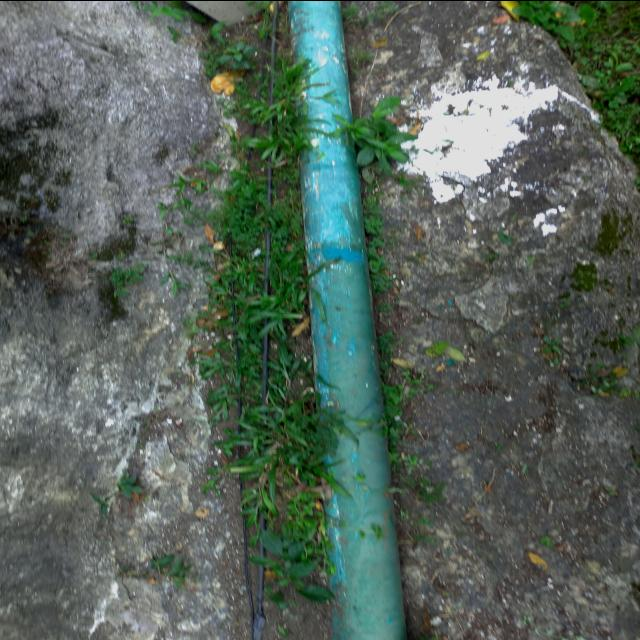gas: (288, 0, 411, 640)
